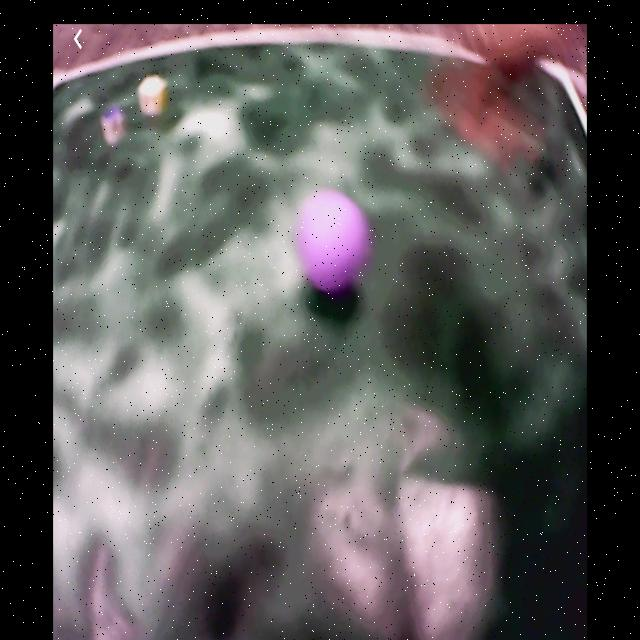ball: (299, 196, 368, 297)
